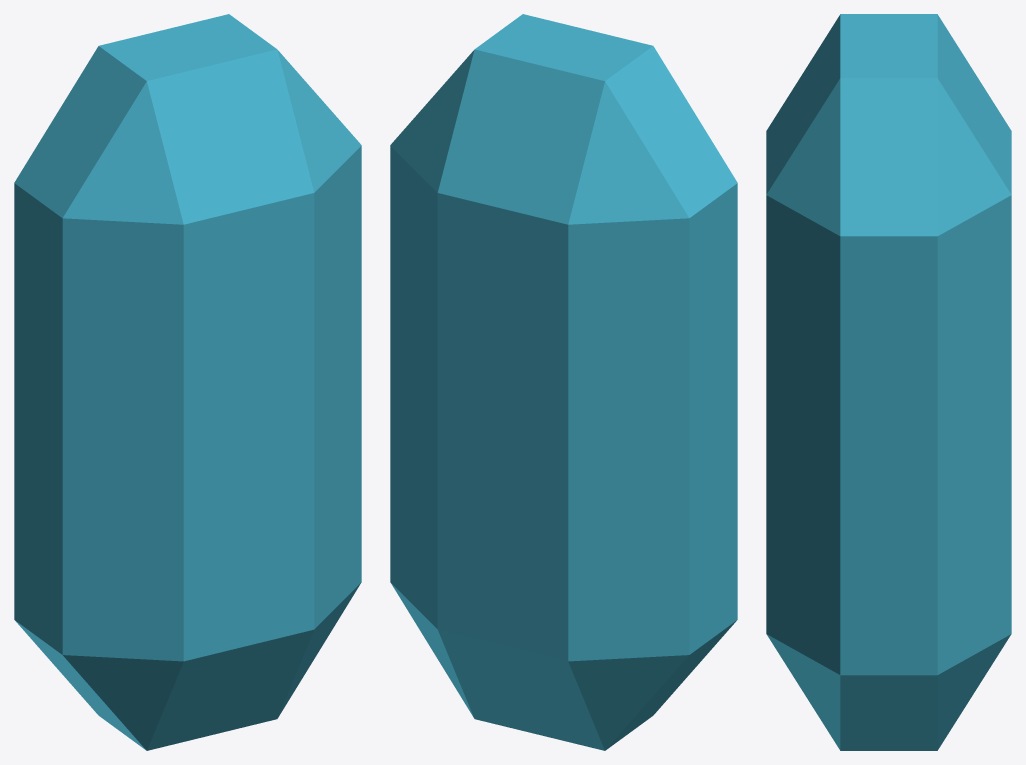
File: gem_blue.glb
3 renders of one model, left to right at view 1: azimuth 30°, elevation 25°; view 2: azimuth 150°, elevation 25°; view 3: azimuth 270°, elevation 25°, orthographic.
Parts seen in each view (by area): view 1: UI_Gem_Blue; view 2: UI_Gem_Blue; view 3: UI_Gem_Blue.
Part boxes in pixels (x1,y1,x2,y2): UI_Gem_Blue: (14,14,361,750); UI_Gem_Blue: (390,14,737,750); UI_Gem_Blue: (766,14,1011,750).
Size of the model in its own units: 0.369 by 0.7892 by 0.2608.
Materials: 1 (1 with a texture image).
